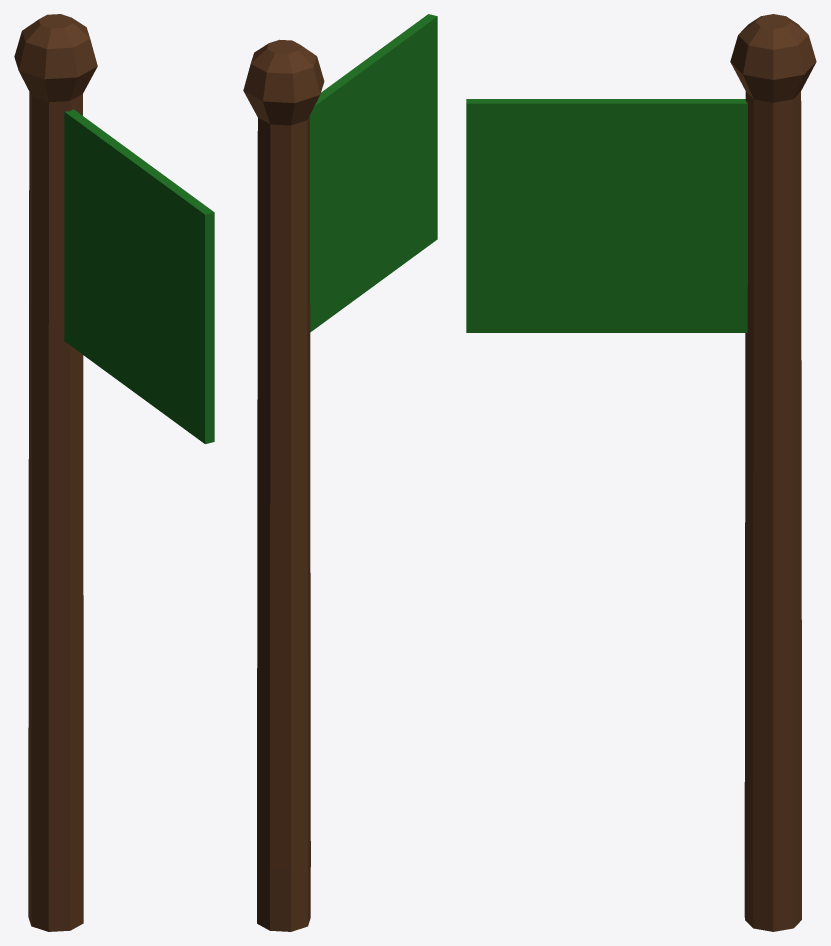
The model's file is CheckpointGreen.fbx.
3 renders of one model, left to right at view 1: azimuth 30°, elevation 25°; view 2: azimuth 150°, elevation 25°; view 3: azimuth 270°, elevation 25°, orthographic. The views are drawn at different scales.
Visible parts, largest first — view 1: Cylinder.008; view 2: Cylinder.008; view 3: Cylinder.008.
Boxes of the visible parts, x1,y1,x2,y2 form: Cylinder.008: (14, 14, 214, 931); Cylinder.008: (243, 14, 437, 931); Cylinder.008: (466, 14, 816, 931).
Size of the model in its own units: 10.57 by 121 by 42.85.
Materials: 1 (1 with a texture image).
